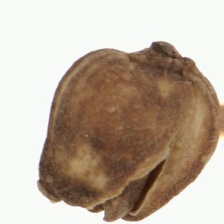L1: (86, 156, 165, 222), (124, 39, 195, 71)
L2: (36, 39, 219, 222)
